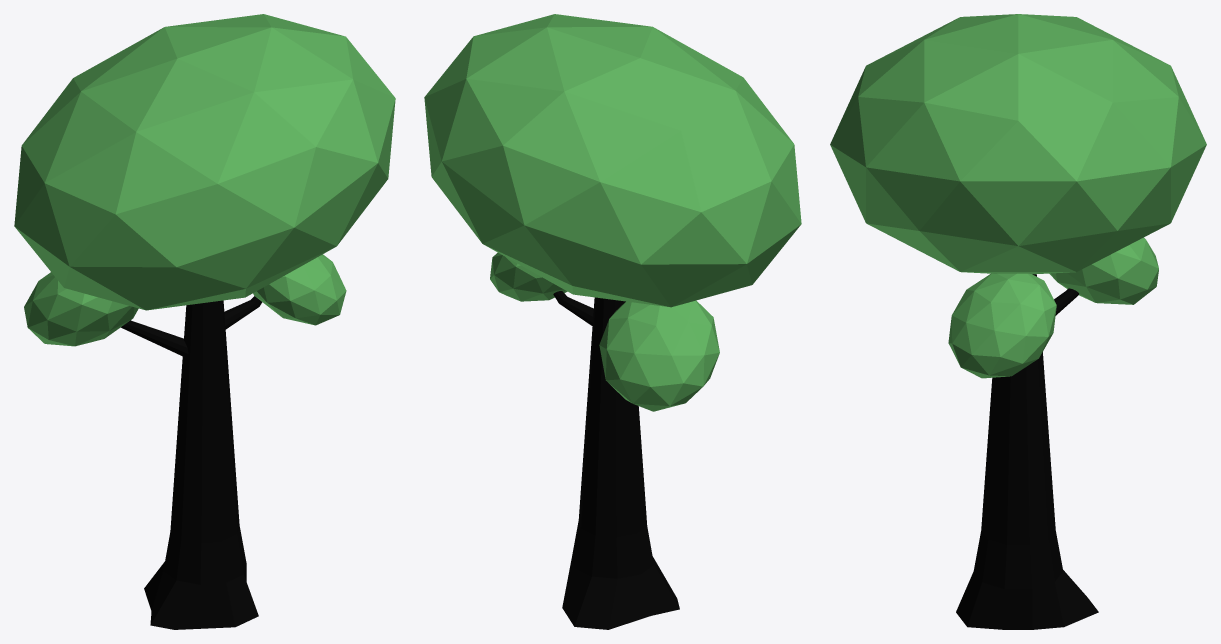
Rendered from Tree 2.fbx.
3 views of the same model, side by side, from view 1: azimuth 30°, elevation 25°; view 2: azimuth 150°, elevation 25°; view 3: azimuth 270°, elevation 25° (orthographic). The views are drawn at different scales.
Visible parts, largest first — view 1: Cylinder.001; view 2: Cylinder.001; view 3: Cylinder.001.
Part boxes in pixels (left/top/right/bottom): Cylinder.001: left=14, top=14, right=395, bottom=629; Cylinder.001: left=424, top=14, right=801, bottom=629; Cylinder.001: left=830, top=14, right=1206, bottom=629.
Bounding box in the file's own units: 121 × 199 × 115.
